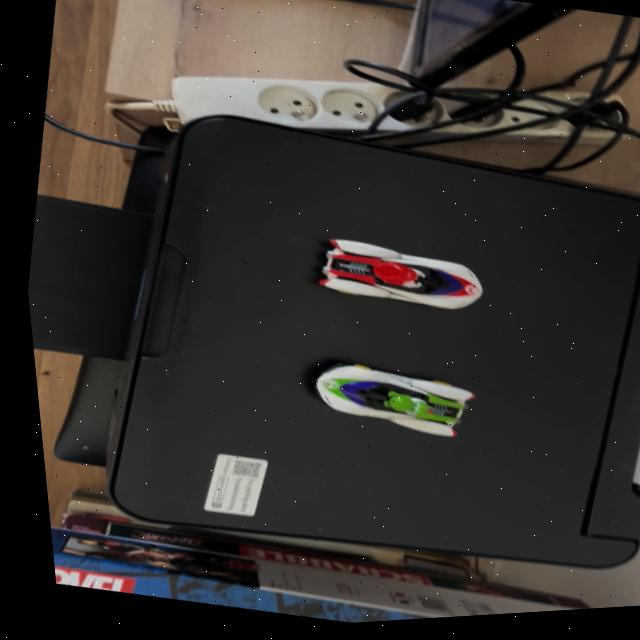mario: (288, 224, 496, 335)
yoshi: (282, 346, 485, 461)
